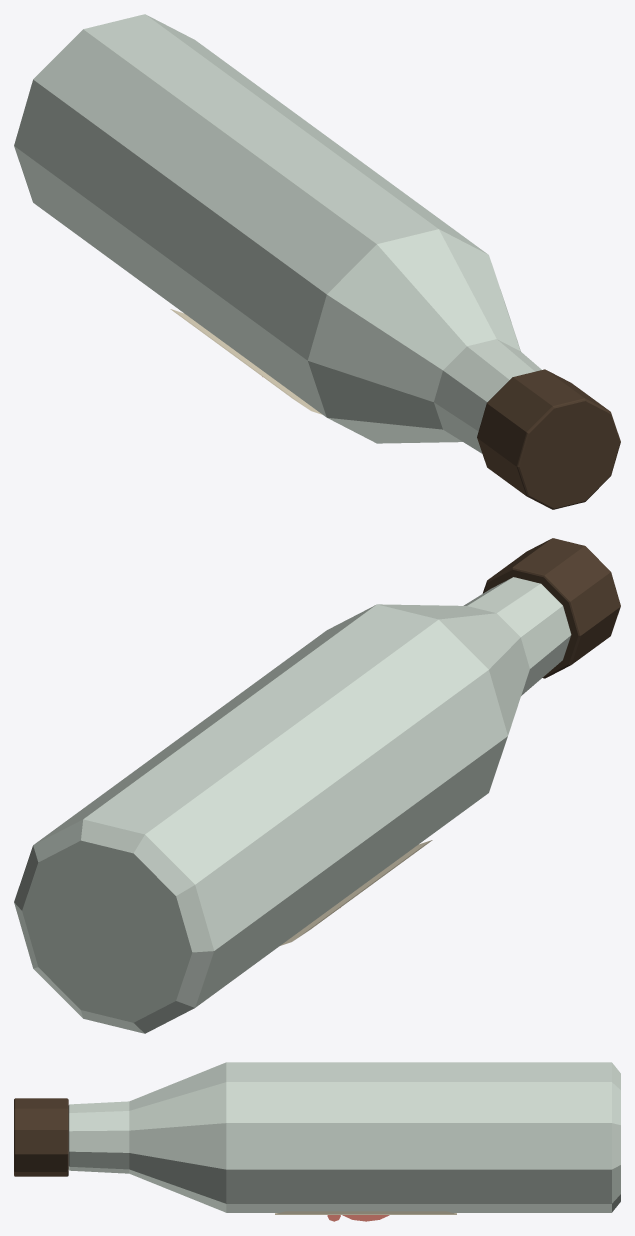
The model's file is apple_cider_vinegar.glb.
The picture shows the model from 3 angles, top to bottom: view 1: azimuth 30°, elevation 25°; view 2: azimuth 150°, elevation 25°; view 3: azimuth 270°, elevation 25°; orthographic projection. The views are drawn at different scales.
Visible parts, largest first — view 1: apple_cider_vinegar; view 2: apple_cider_vinegar; view 3: apple_cider_vinegar.
Part boxes in pixels (x1=…): apple_cider_vinegar: x1=14, y1=14, x2=620, y2=509; apple_cider_vinegar: x1=14, y1=538, x2=620, y2=1033; apple_cider_vinegar: x1=14, y1=1062, x2=620, y2=1221.
Size of the model in its own units: 0.05 by 0.0505 by 0.2.
